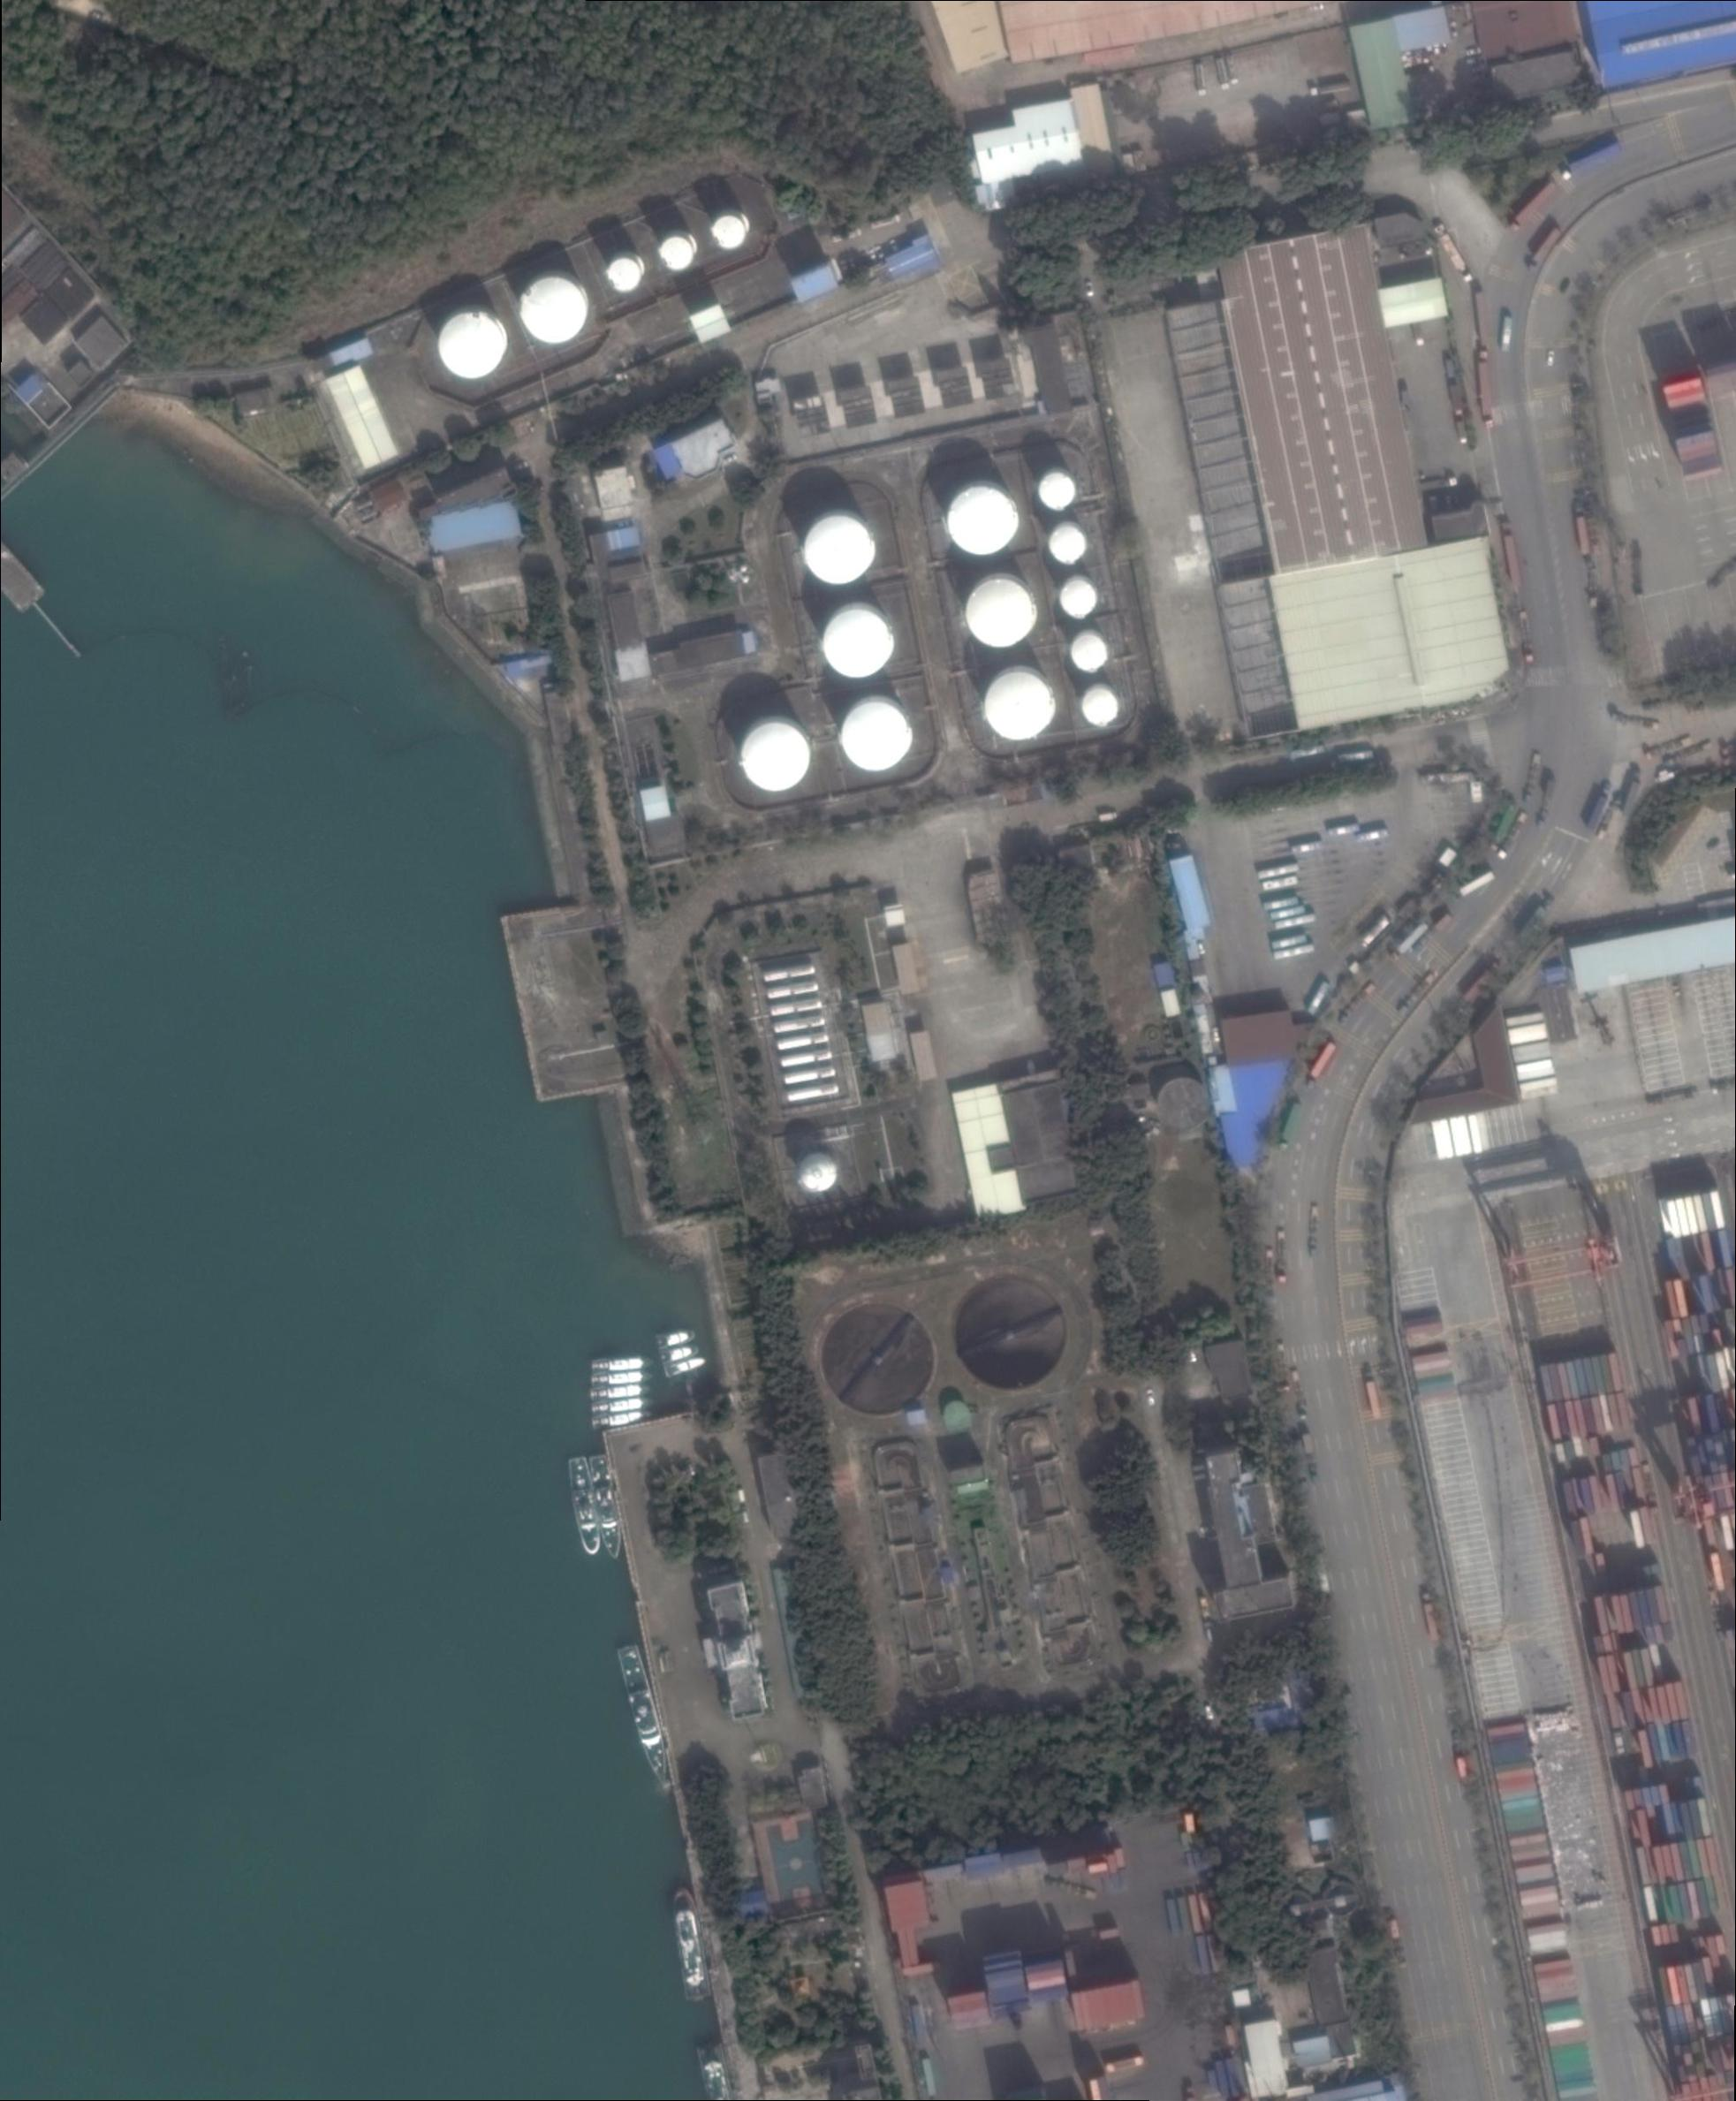ship: (616, 1644, 673, 1790), (670, 1886, 714, 2002), (588, 1454, 626, 1562), (567, 1455, 605, 1558), (591, 1410, 654, 1431), (591, 1396, 654, 1415), (591, 1370, 653, 1387), (663, 1354, 707, 1379), (660, 1342, 700, 1366), (591, 1384, 651, 1400), (656, 1326, 696, 1349), (591, 1358, 654, 1372)
